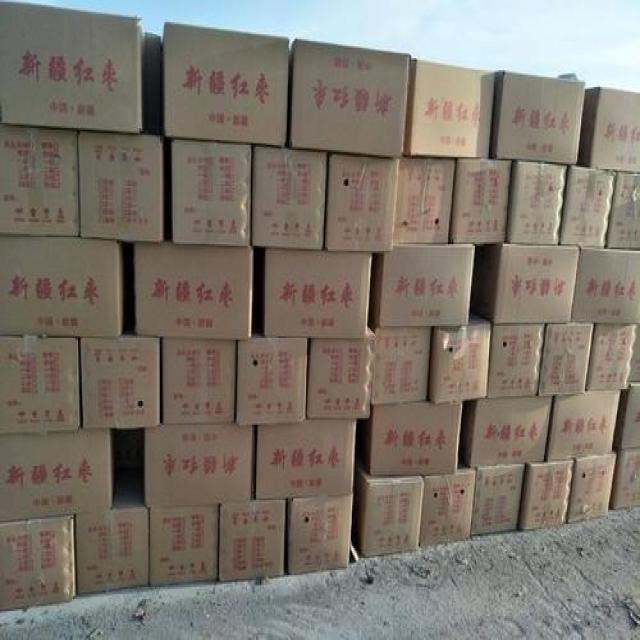box: (0, 2, 165, 138), (163, 24, 293, 147), (288, 39, 411, 159), (0, 234, 133, 338), (124, 244, 253, 340), (78, 130, 173, 247), (0, 430, 113, 524), (252, 251, 372, 338), (74, 464, 150, 594), (403, 58, 497, 159), (145, 425, 257, 509), (79, 314, 160, 430), (0, 123, 82, 237), (470, 241, 580, 324), (490, 70, 585, 166), (169, 138, 252, 247), (369, 244, 475, 328), (253, 418, 355, 500), (250, 147, 329, 251), (0, 338, 82, 432), (236, 319, 308, 425), (355, 403, 462, 474), (0, 515, 76, 613), (324, 154, 399, 253), (352, 461, 424, 558), (460, 396, 554, 469), (159, 338, 236, 427), (307, 323, 376, 422), (147, 505, 218, 589), (429, 312, 492, 403), (561, 147, 618, 246), (218, 498, 285, 582), (287, 492, 353, 577), (393, 159, 456, 246), (448, 159, 511, 244), (547, 391, 620, 463), (506, 162, 570, 244), (420, 452, 474, 548), (579, 87, 640, 171), (371, 326, 433, 406), (471, 464, 529, 538), (539, 323, 596, 396), (488, 324, 547, 394), (517, 459, 573, 531), (588, 323, 639, 393), (568, 452, 616, 524), (607, 172, 640, 249), (609, 447, 639, 517), (614, 382, 639, 452)
